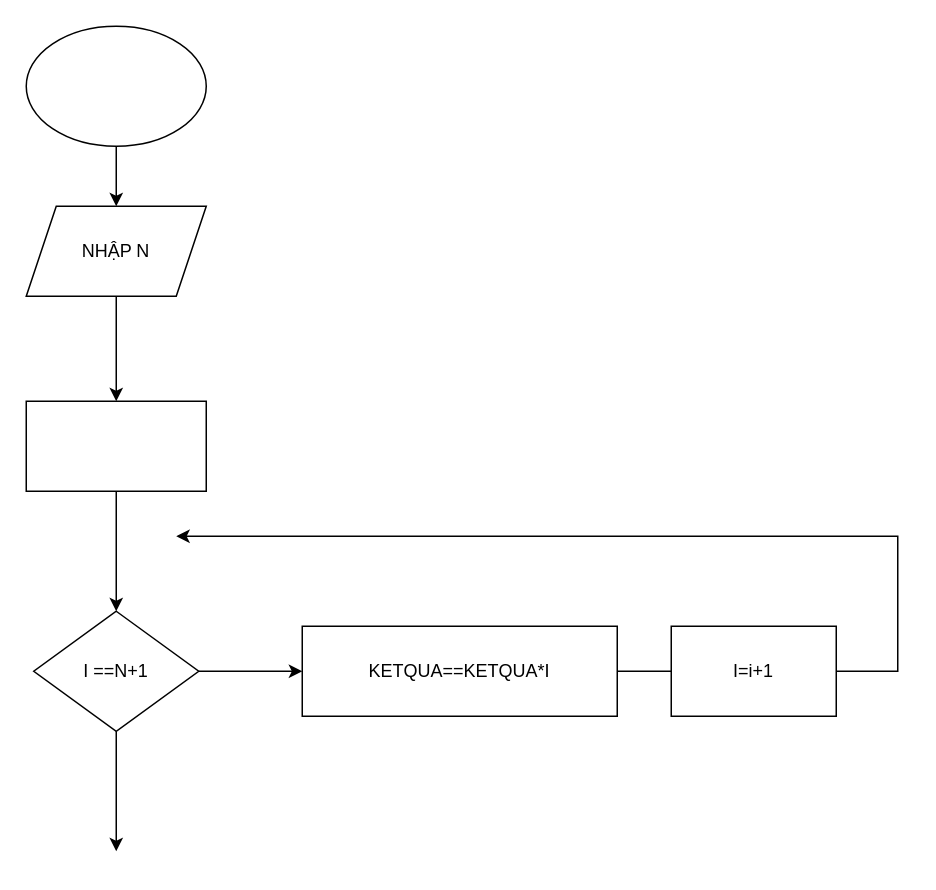
The diagram is 936 pixels wide and 890 high, and some of its shapes have lost their labels. Each missing label, with the box of its shape:
KẾT QUẢ =1 I=1: (25, 400, 206, 491)
START: (25, 25, 206, 146)
